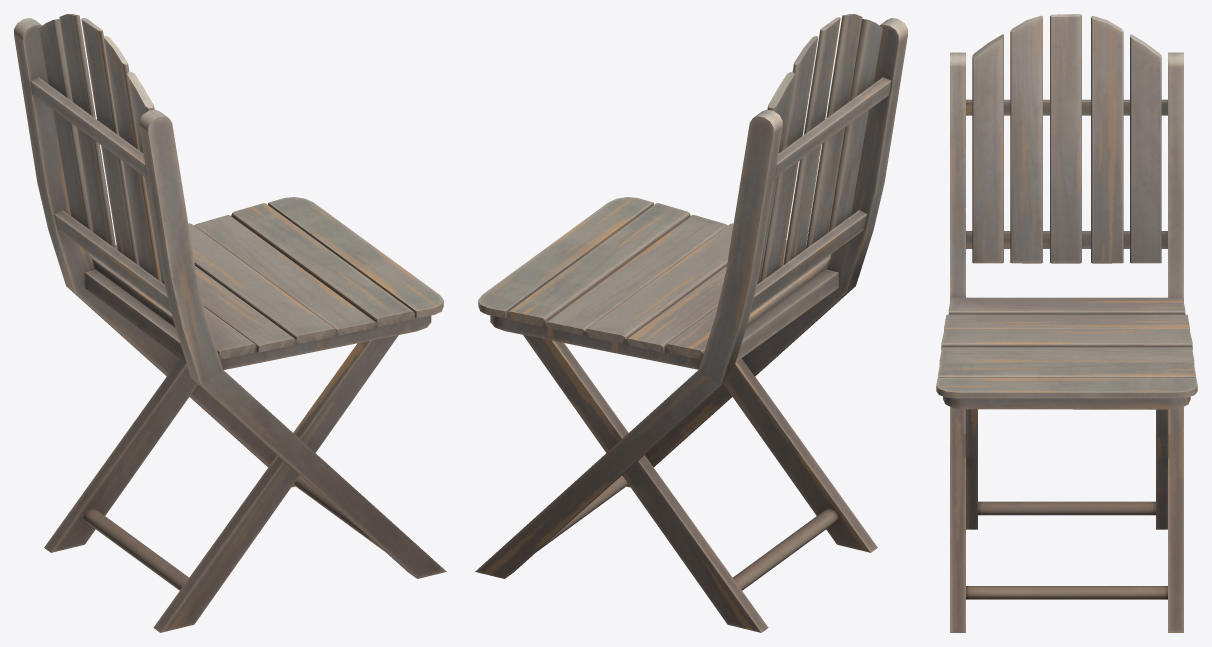
File: SM_WoodenChair05.fbx
3 views of the same model, side by side, from view 1: azimuth 30°, elevation 25°; view 2: azimuth 150°, elevation 25°; view 3: azimuth 270°, elevation 25° (orthographic). The views are drawn at different scales.
Visible parts, largest first — view 1: SM_WoodenChair05_LOD0; view 2: SM_WoodenChair05_LOD0; view 3: SM_WoodenChair05_LOD0.
Part boxes in pixels (<box>): SM_WoodenChair05_LOD0: <box>14,14,446,632</box>; SM_WoodenChair05_LOD0: <box>475,14,907,632</box>; SM_WoodenChair05_LOD0: <box>936,14,1197,632</box>.
Size of the model in its own units: 60.82 by 52.99 by 111.
Materials: 1 (1 with a texture image).
